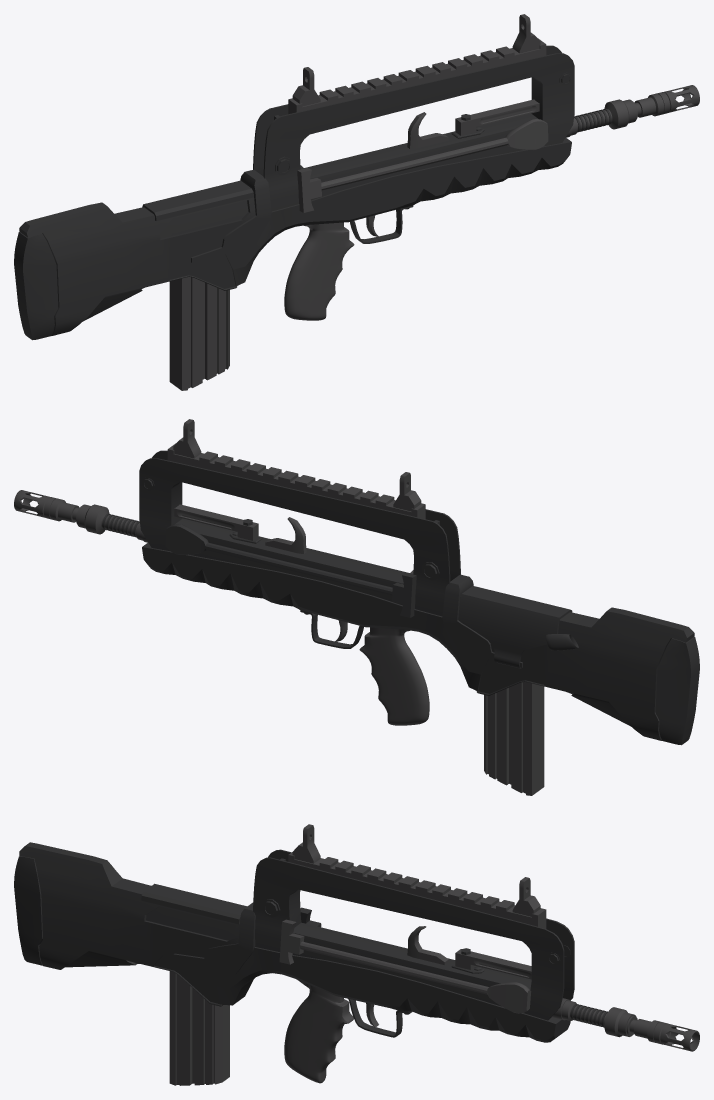
File: Famas_Mesh.fbx
3 views of the same model, one above another, from view 1: azimuth 30°, elevation 25°; view 2: azimuth 150°, elevation 25°; view 3: azimuth 330°, elevation 25° (orthographic).
Parts seen in each view (by area): view 1: Famas; view 2: Famas; view 3: Famas.
Part boxes in pixels (<box>): Famas: <box>14,14,699,390</box>; Famas: <box>14,419,699,795</box>; Famas: <box>14,824,699,1085</box>.
Size of the model in its own units: 0.7926 by 0.3197 by 0.055.
